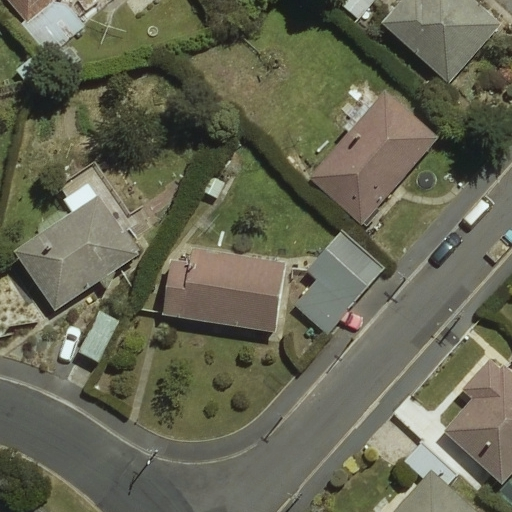DT: (444, 302, 469, 326), (284, 487, 309, 506)
